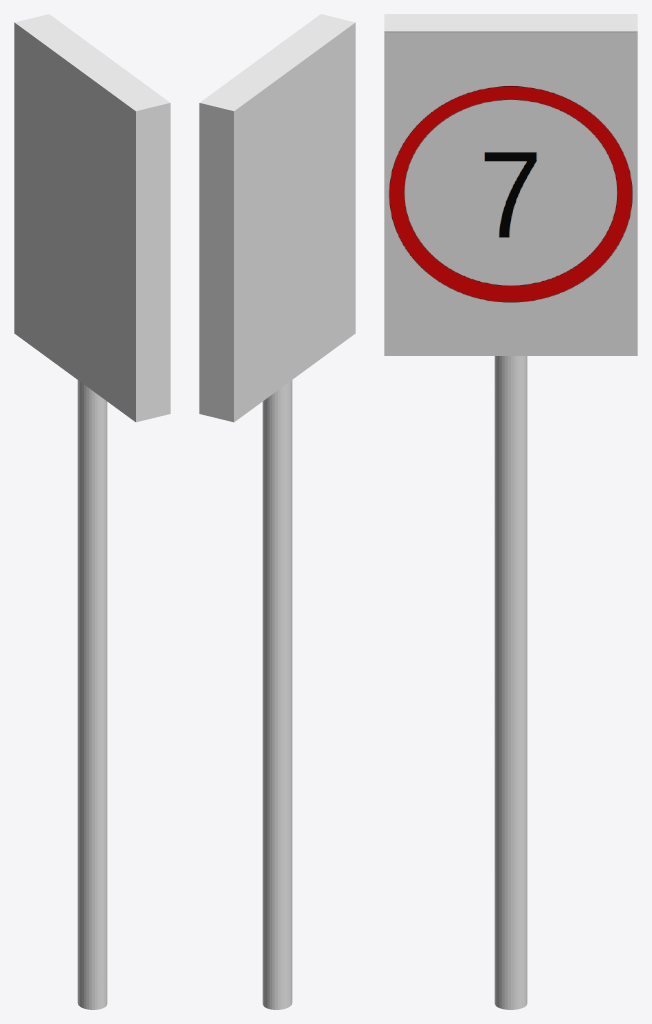
File: sign7.dae
The picture shows the model from 3 angles, left to right: view 1: azimuth 30°, elevation 25°; view 2: azimuth 150°, elevation 25°; view 3: azimuth 270°, elevation 25°; orthographic projection. The views are drawn at different scales.
Parts seen in each view (by area): view 1: Cube; view 2: Cube; view 3: Cube.
Part boxes in pixels (x1=…): Cube: x1=14, y1=14, x2=170, y2=1009; Cube: x1=199, y1=14, x2=355, y2=1009; Cube: x1=384, y1=14, x2=637, y2=1009.
Bounding box in the file's own units: 0.0692 × 0.42 × 1.8.
